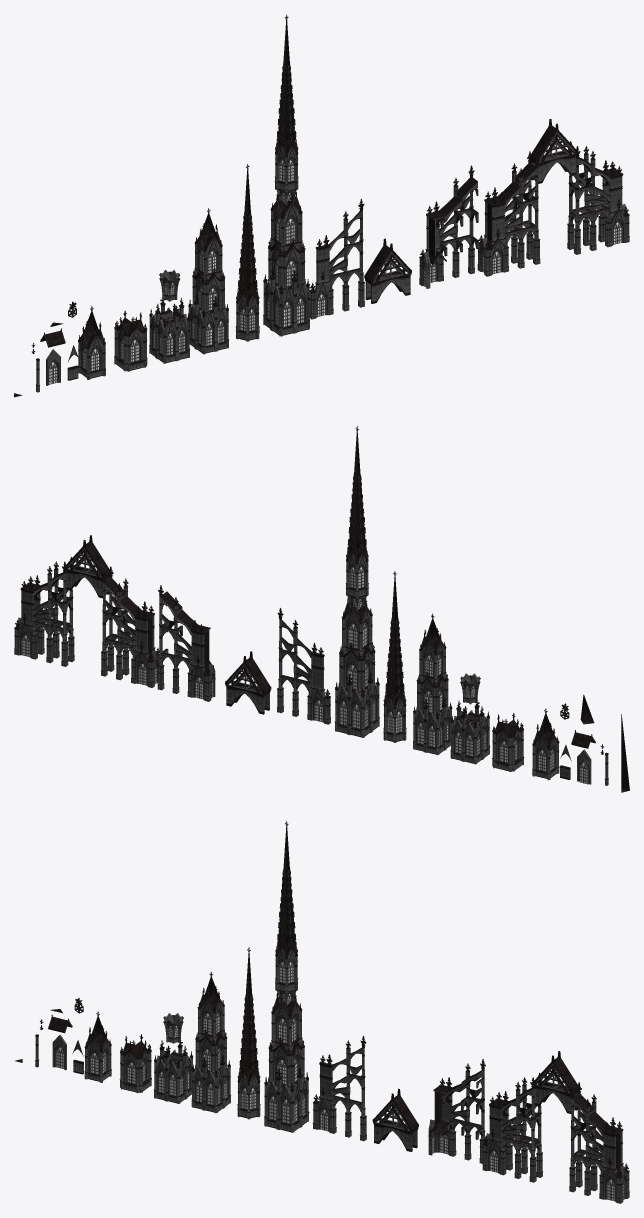
File: GothicBuildingForAriaPack.fbx
3 renders of one model, top to bottom at view 1: azimuth 30°, elevation 25°; view 2: azimuth 150°, elevation 25°; view 3: azimuth 330°, elevation 25°, orthographic. The views are drawn at different scales.
Parts seen in each view (by area): view 1: Roof.031, Roof.026; view 2: Roof.031, Roof.026; view 3: Roof.031, Roof.026.
Boxes of the visible parts, x1,y1,x2,y2 form: Roof.031: (364, 238, 411, 284); Roof.026: (530, 119, 576, 162); Roof.031: (225, 651, 271, 696); Roof.026: (65, 535, 110, 577); Roof.031: (372, 1088, 418, 1133); Roof.026: (534, 1051, 578, 1092).
Bounding box in the file's own units: 31926 × 15350 × 1812.
